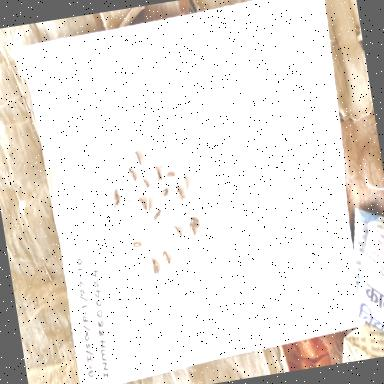pbw: (149, 161, 164, 186), (179, 172, 191, 192), (160, 247, 172, 266), (108, 194, 122, 210), (171, 218, 182, 238), (146, 256, 156, 276), (133, 148, 143, 166), (138, 195, 148, 213), (158, 186, 170, 200), (152, 258, 161, 276), (176, 188, 186, 204), (143, 192, 151, 212), (140, 175, 150, 189), (164, 168, 175, 180), (152, 207, 162, 220), (128, 166, 136, 182), (188, 213, 199, 224), (110, 186, 118, 200), (188, 222, 196, 236), (131, 239, 142, 249), (174, 182, 182, 195), (190, 222, 200, 230)
